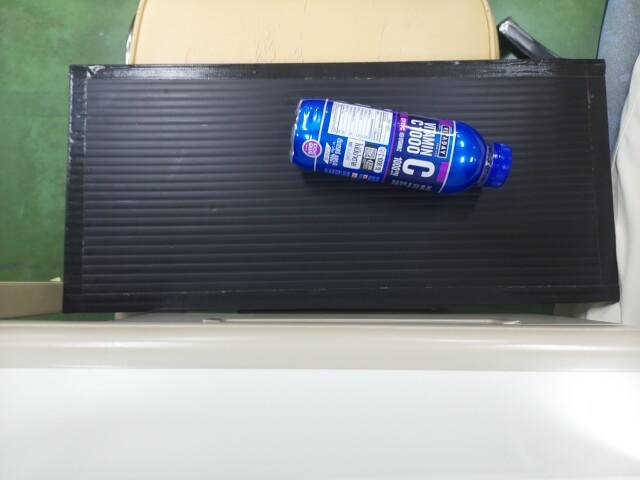plastic_bottle: (288, 95, 510, 194)
